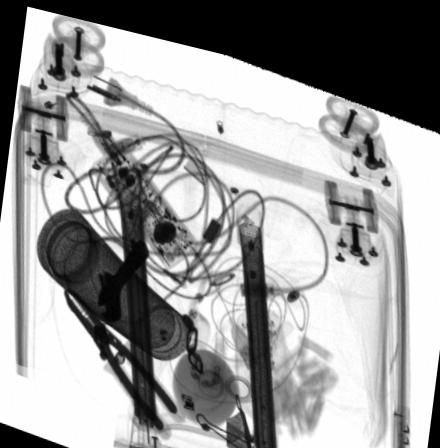Pliers: (63, 284, 184, 431)
Wrench: (95, 231, 148, 317)
